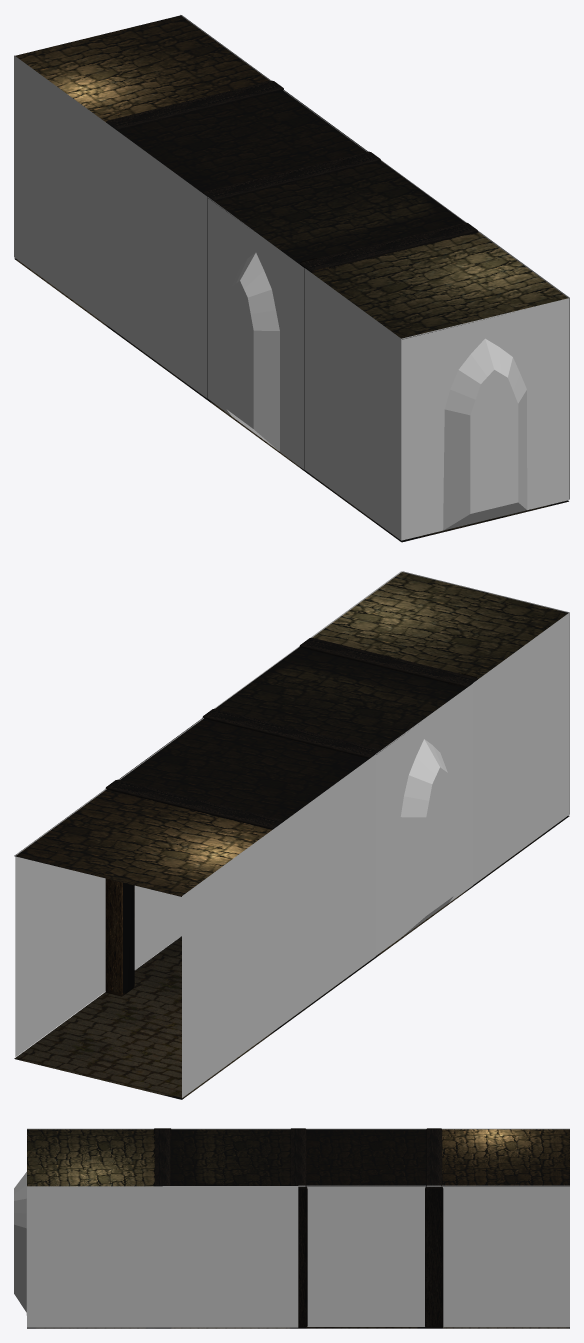
File: corredor01.fbx
3 renders of one model, top to bottom at view 1: azimuth 30°, elevation 25°; view 2: azimuth 150°, elevation 25°; view 3: azimuth 270°, elevation 25°, orthographic. The views are drawn at different scales.
Visible parts, largest first — view 1: castle_walll01, castle_cetting01, castle_beam01, castle_floor01; view 2: castle_walll01, castle_cetting01, castle_floor01, castle_beam01; view 3: castle_walll01, castle_cetting01, castle_beam01, castle_floor01.
Part boxes in pixels (<box>): castle_walll01: <box>14,15,569,540</box>; castle_cetting01: <box>15,15,568,339</box>; castle_beam01: <box>106,80,477,466</box>; castle_floor01: <box>14,258,568,542</box>; castle_walll01: <box>15,571,569,1097</box>; castle_cetting01: <box>14,572,568,896</box>; castle_floor01: <box>14,815,569,1099</box>; castle_beam01: <box>105,637,477,1032</box>; castle_walll01: <box>14,1128,569,1327</box>; castle_cetting01: <box>27,1129,569,1186</box>; castle_beam01: <box>153,1128,443,1328</box>; castle_floor01: <box>27,1327,569,1328</box>.
Bounding box in the file's own units: 220 × 233 × 819.
